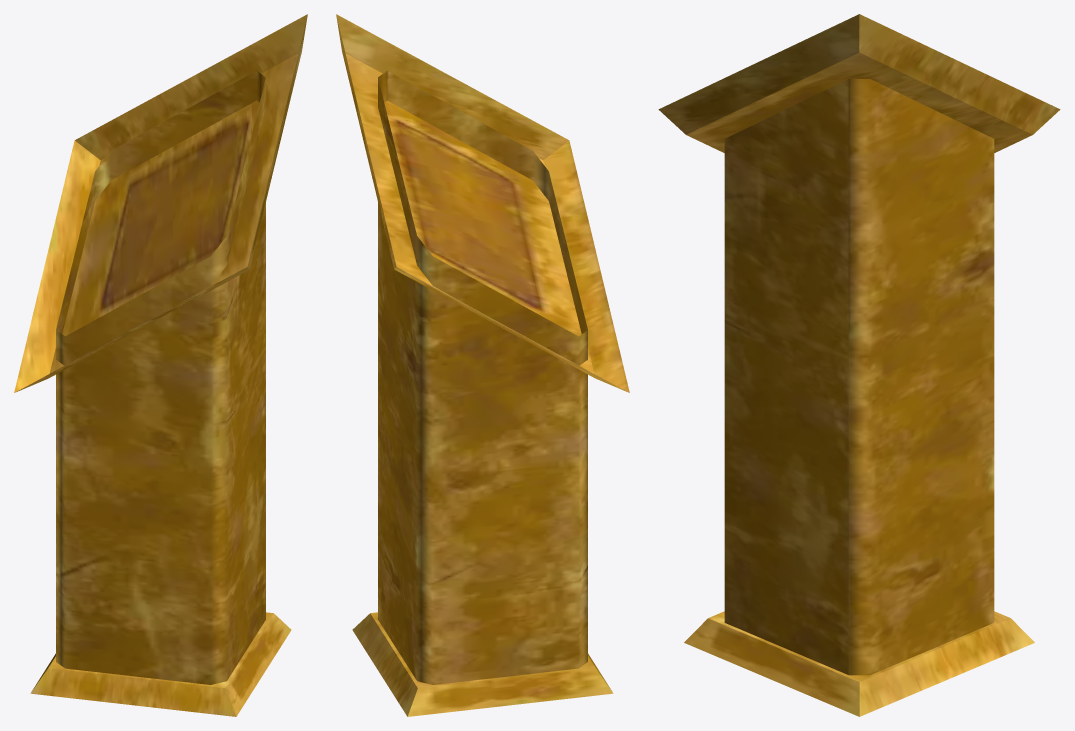
The picture shows the model from 3 angles, left to right: view 1: azimuth 30°, elevation 25°; view 2: azimuth 150°, elevation 25°; view 3: azimuth 270°, elevation 25°; orthographic projection. The views are drawn at different scales.
Parts seen in each view (by area): view 1: SM_Dragonkin_Pipe_1m_02_v1_LOD0; view 2: SM_Dragonkin_Pipe_1m_02_v1_LOD0; view 3: SM_Dragonkin_Pipe_1m_02_v1_LOD0.
Part boxes in pixels (x1,y1,x2,y2): SM_Dragonkin_Pipe_1m_02_v1_LOD0: (14, 14, 307, 716); SM_Dragonkin_Pipe_1m_02_v1_LOD0: (336, 14, 629, 716); SM_Dragonkin_Pipe_1m_02_v1_LOD0: (658, 14, 1060, 716).
Size of the model in its own units: 0.6711 by 1.34 by 0.6836.
1 material, 1 textured.
